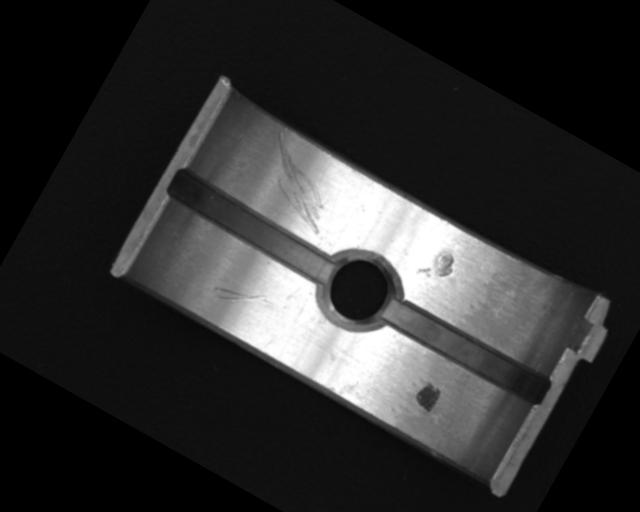blot: (410, 379, 443, 415)
bruise: (415, 242, 460, 288)
gap: (160, 163, 343, 290), (378, 292, 552, 409)
hole: (306, 236, 415, 345)
nick: (243, 131, 353, 236), (210, 270, 275, 324)
